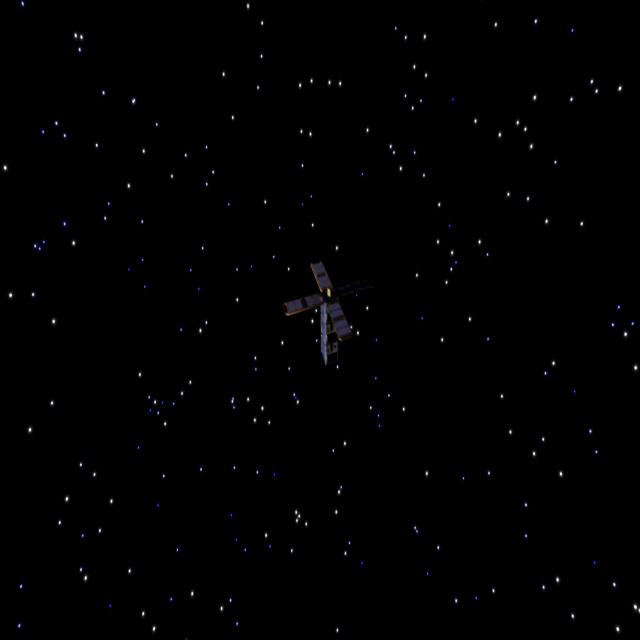medium_debris: (277, 255, 363, 367)
